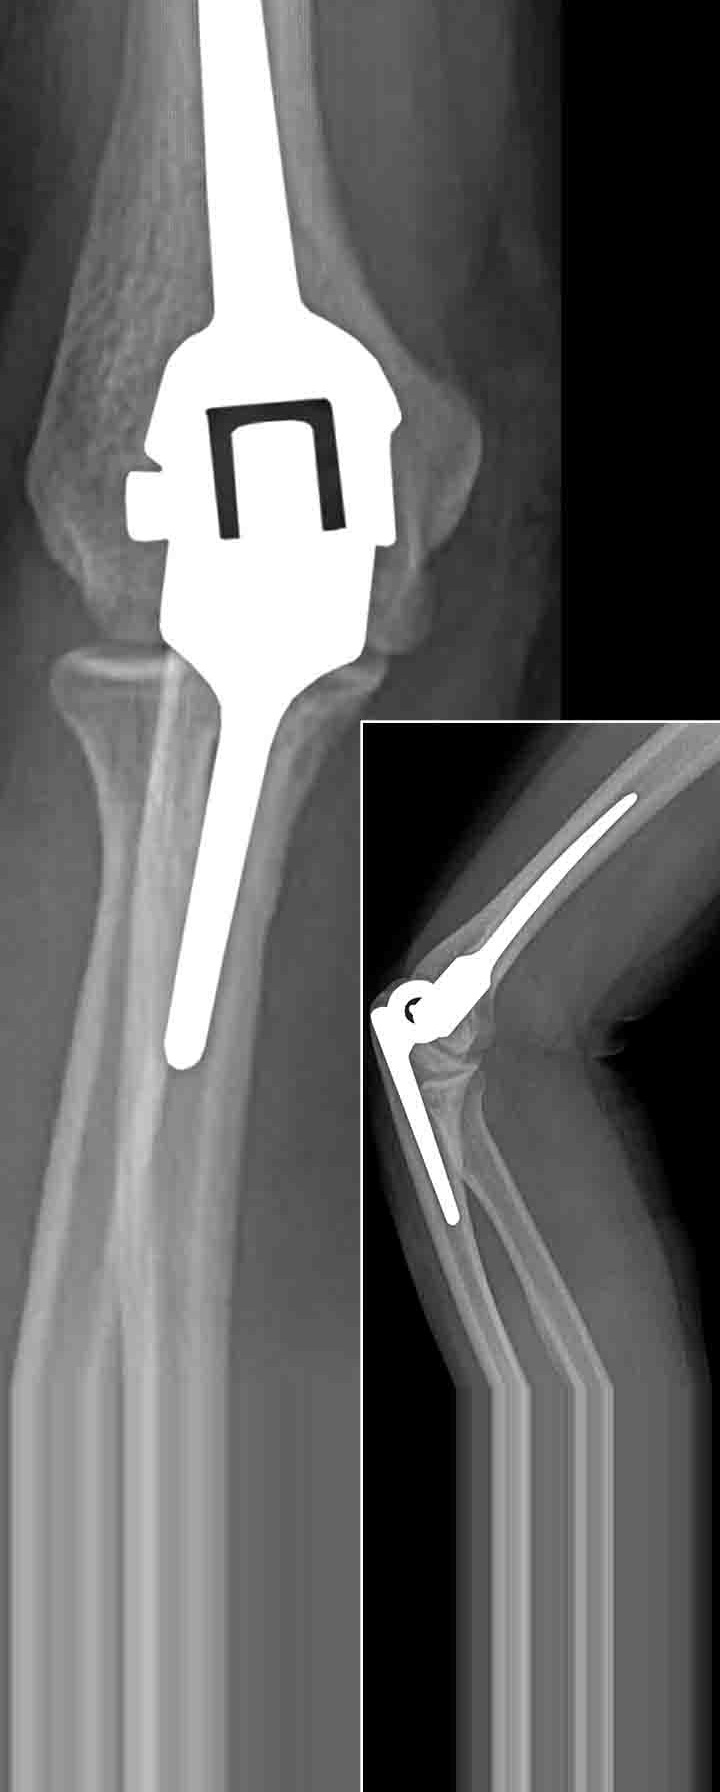Elbow - Osteonics - Stryker: (93, 2, 411, 891), (370, 795, 663, 1232)
